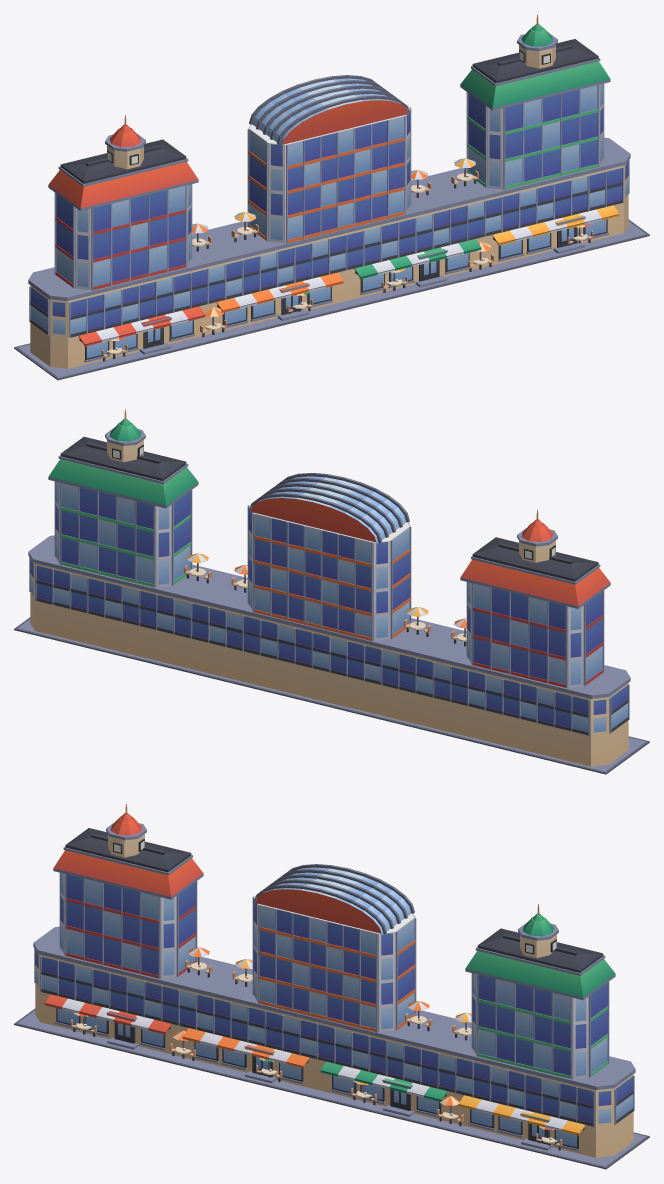
File: com_grand_avenue_mall_7x1.glb
3 views of the same model, one above another, from view 1: azimuth 30°, elevation 25°; view 2: azimuth 150°, elevation 25°; view 3: azimuth 330°, elevation 25° (orthographic).
Parts seen in each view (by area): view 1: com_grand_avenue_mall_7x1; view 2: com_grand_avenue_mall_7x1; view 3: com_grand_avenue_mall_7x1.
Boxes of the visible parts, x1,y1,x2,y2 form: com_grand_avenue_mall_7x1: (14,14,649,380); com_grand_avenue_mall_7x1: (14,409,649,774); com_grand_avenue_mall_7x1: (14,803,649,1169).
Bounding box in the file's own units: 13.74 × 5.03 × 1.76.
1 material, 1 textured.
